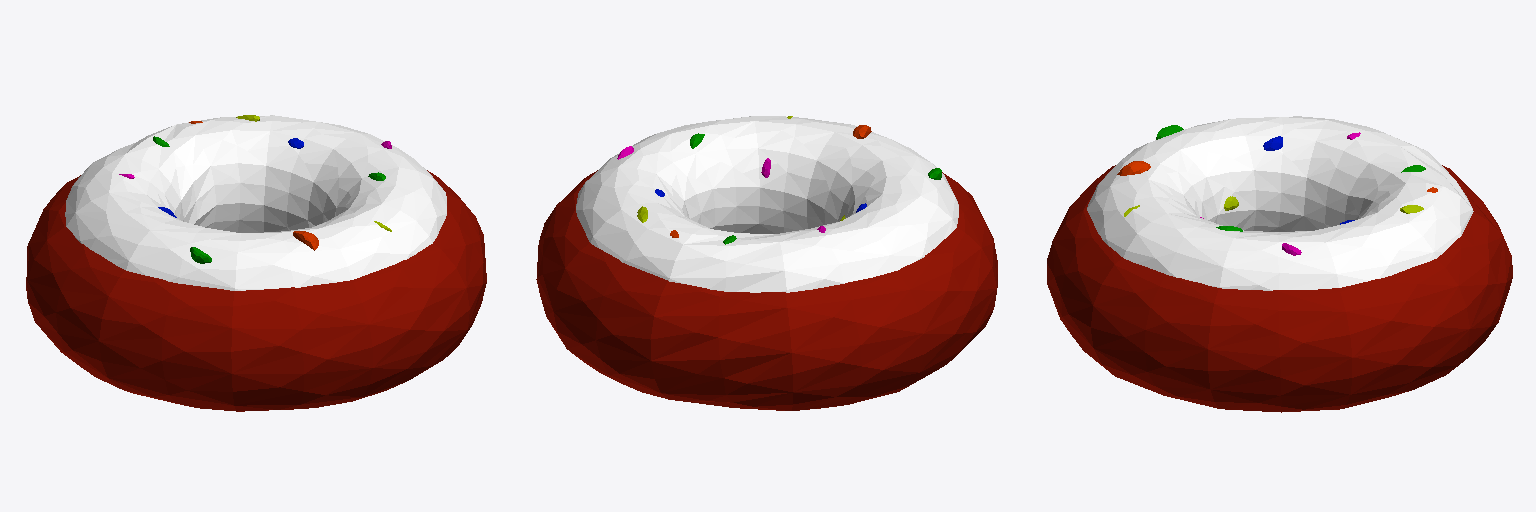
Rendered from donut.obj.
The picture shows the model from 3 angles: view 1: azimuth 30°, elevation 25°; view 2: azimuth 150°, elevation 25°; view 3: azimuth 270°, elevation 25°; orthographic projection.
Parts seen in each view (by area): view 1: Torus002; view 2: Torus002; view 3: Torus002.
Part boxes in pixels (x1,y1,x2,y2): Torus002: (26,115,486,411); Torus002: (536,116,997,410); Torus002: (1047,116,1512,412).
Size of the model in its own units: 6.99 by 2.76 by 7.06.